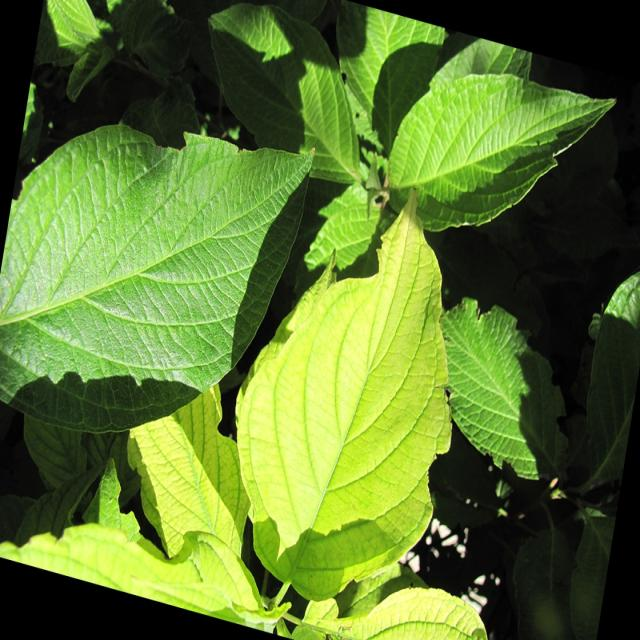Chlorosis: (181, 203, 477, 640)
